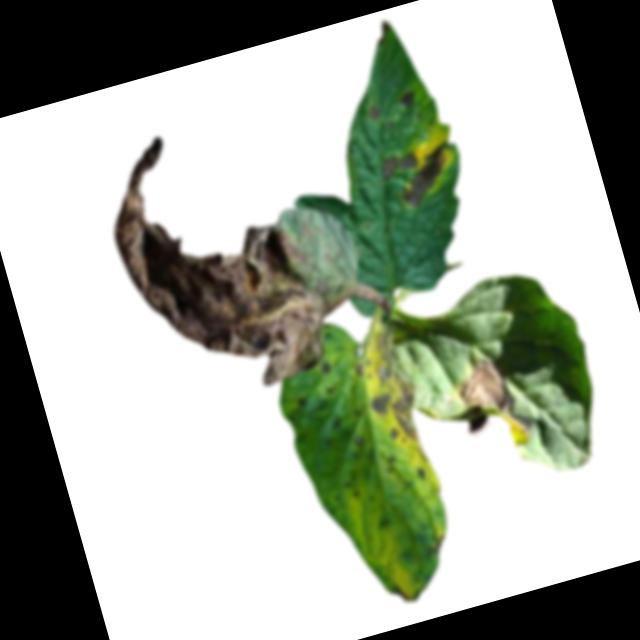Early_blight: (90, 102, 355, 410), (351, 322, 429, 450), (452, 347, 541, 458), (385, 136, 462, 212), (374, 146, 421, 181), (387, 574, 425, 608), (393, 86, 420, 114), (290, 389, 315, 411), (362, 101, 381, 121)
